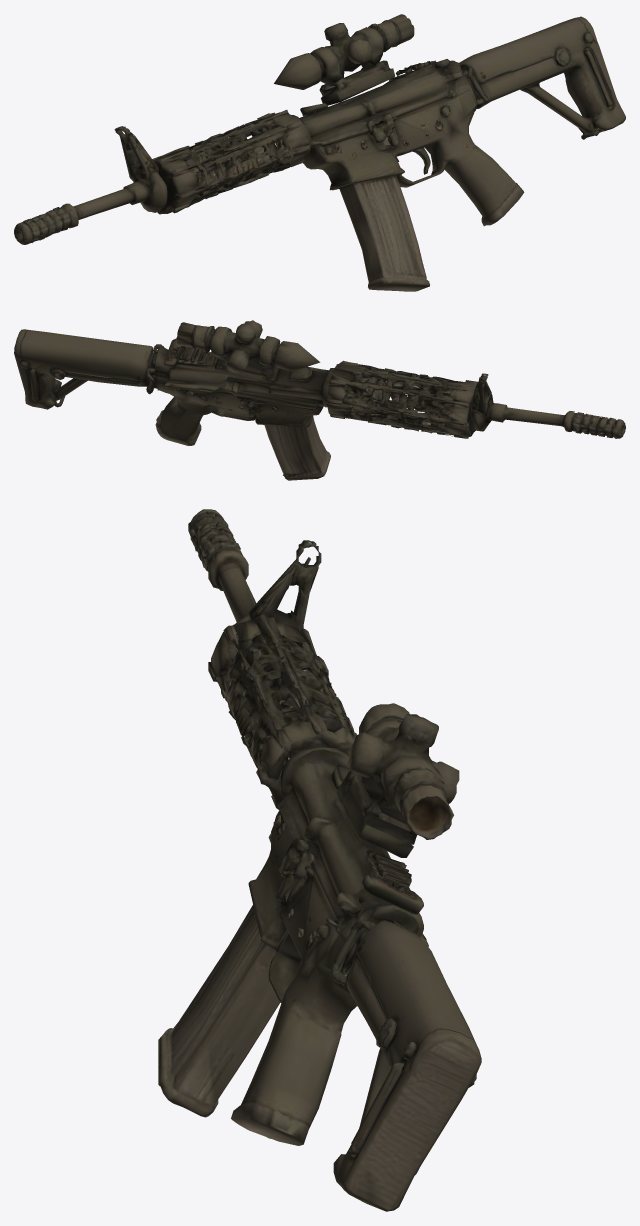
File: mer_assault_rifle_LOD0.glb
3 views of the same model, one above another, from view 1: azimuth 30°, elevation 25°; view 2: azimuth 150°, elevation 25°; view 3: azimuth 270°, elevation 25° (orthographic). The views are drawn at different scales.
Parts seen in each view (by area): view 1: tripo_node_cba70034-4cd7-456c-9bc8-af55f574e1a5; view 2: tripo_node_cba70034-4cd7-456c-9bc8-af55f574e1a5; view 3: tripo_node_cba70034-4cd7-456c-9bc8-af55f574e1a5.
Boxes of the visible parts, left/top/right/bottom form: tripo_node_cba70034-4cd7-456c-9bc8-af55f574e1a5: left=14, top=14, right=625, bottom=291; tripo_node_cba70034-4cd7-456c-9bc8-af55f574e1a5: left=14, top=320, right=625, bottom=480; tripo_node_cba70034-4cd7-456c-9bc8-af55f574e1a5: left=158, top=509, right=481, bottom=1211.
Size of the model in its own units: 0.998 by 0.334 by 0.252.
Materials: 1 (1 with a texture image).
